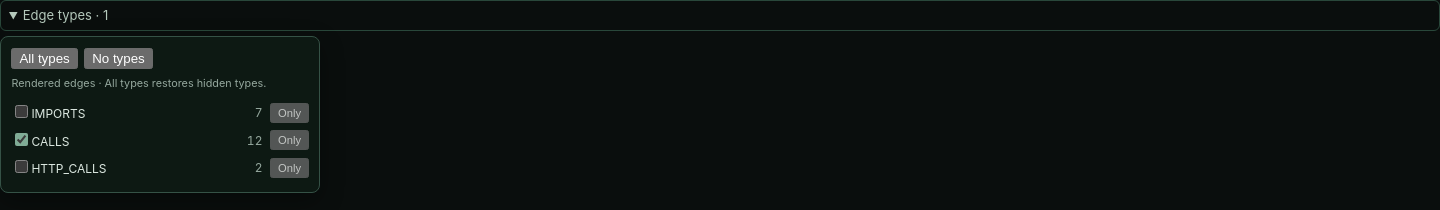
distinguishes explicit None from All and updates every checkbox
This screenshot has width=1440, height=210.
Click the button "No types" at [118, 58], box [84,48,153,69]
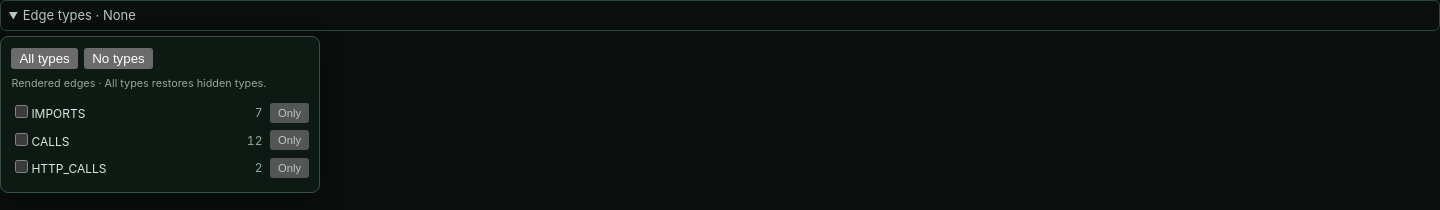
Check: the heading "Edge types · None" is shown, box [0,0,1439,31]
Click the button "All types" at [45, 58], box [11,48,78,69]
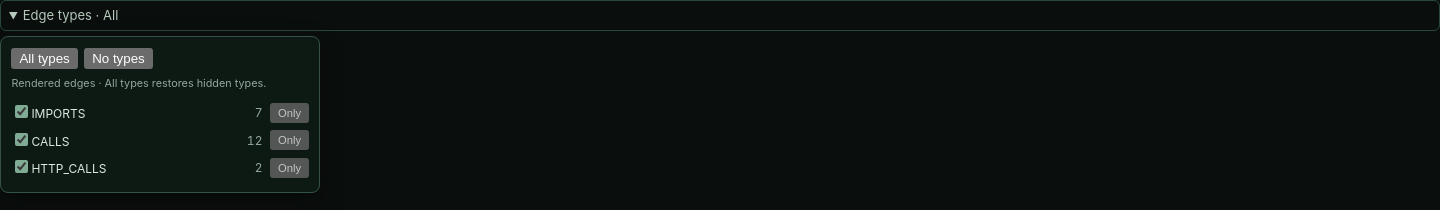
Check: the heading "Edge types · All" is shown, box [0,0,1439,31]
